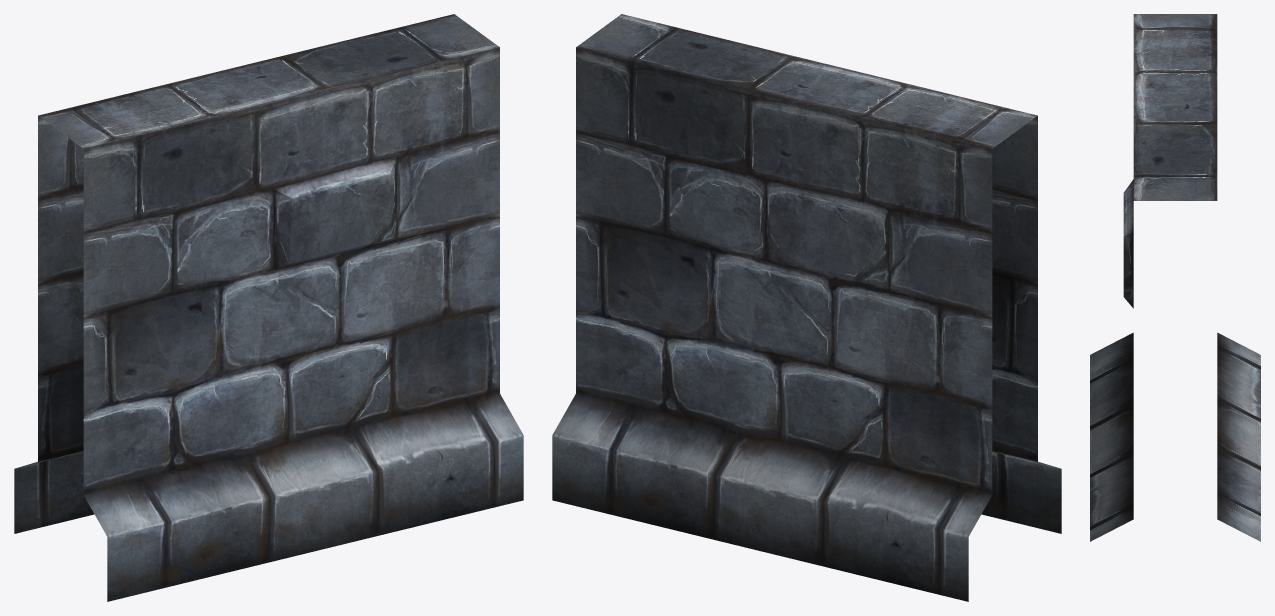
Rendered from B_shiqiang04.fbx.
3 renders of one model, left to right at view 1: azimuth 30°, elevation 25°; view 2: azimuth 150°, elevation 25°; view 3: azimuth 270°, elevation 25°, orthographic. The views are drawn at different scales.
Parts seen in each view (by area): view 1: B_shiqiang04; view 2: B_shiqiang04; view 3: B_shiqiang04.
Boxes of the visible parts, box(x1,y1,x2,y2) form: B_shiqiang04: box(14, 14, 523, 601); B_shiqiang04: box(552, 14, 1061, 601); B_shiqiang04: box(1090, 14, 1260, 541).
Bounding box in the file's own units: 443 × 443 × 171.
